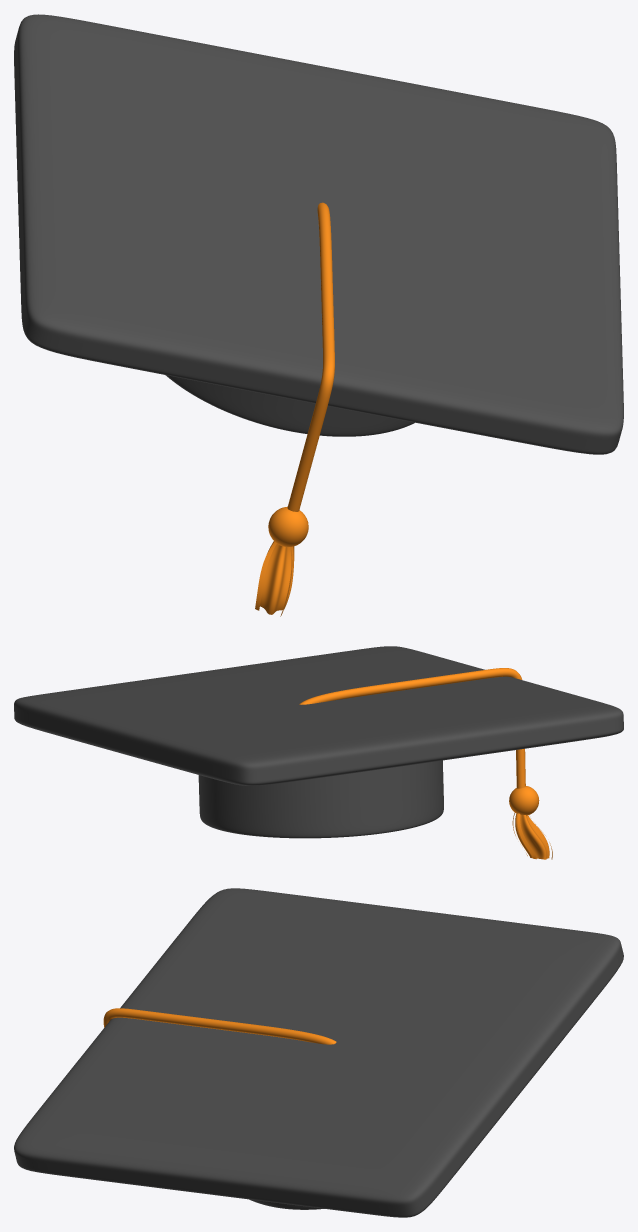
Rendered from graduationhat.gltf.
The picture shows the model from 3 angles, top to bottom: view 1: azimuth 30°, elevation 25°; view 2: azimuth 150°, elevation 25°; view 3: azimuth 270°, elevation 25°; orthographic projection. The views are drawn at different scales.
Visible parts, largest first — view 1: Cube.067, NurbsPath.002, NurbsPath.003, Sphere.004; view 2: Cube.067, NurbsPath.002, NurbsPath.003, Sphere.004; view 3: Cube.067, NurbsPath.002.
Boxes of the visible parts, x1,y1,x2,y2 form: Cube.067: (14, 14, 623, 454); NurbsPath.002: (287, 202, 334, 511); NurbsPath.003: (255, 541, 294, 616); Sphere.004: (268, 506, 308, 547); Cube.067: (14, 646, 623, 838); NurbsPath.002: (299, 668, 525, 788); NurbsPath.003: (512, 813, 552, 859); Sphere.004: (509, 786, 539, 815); Cube.067: (14, 888, 623, 1217); NurbsPath.002: (103, 1008, 336, 1044).
Size of the model in its own units: 18.28 by 8.64 by 17.96.
